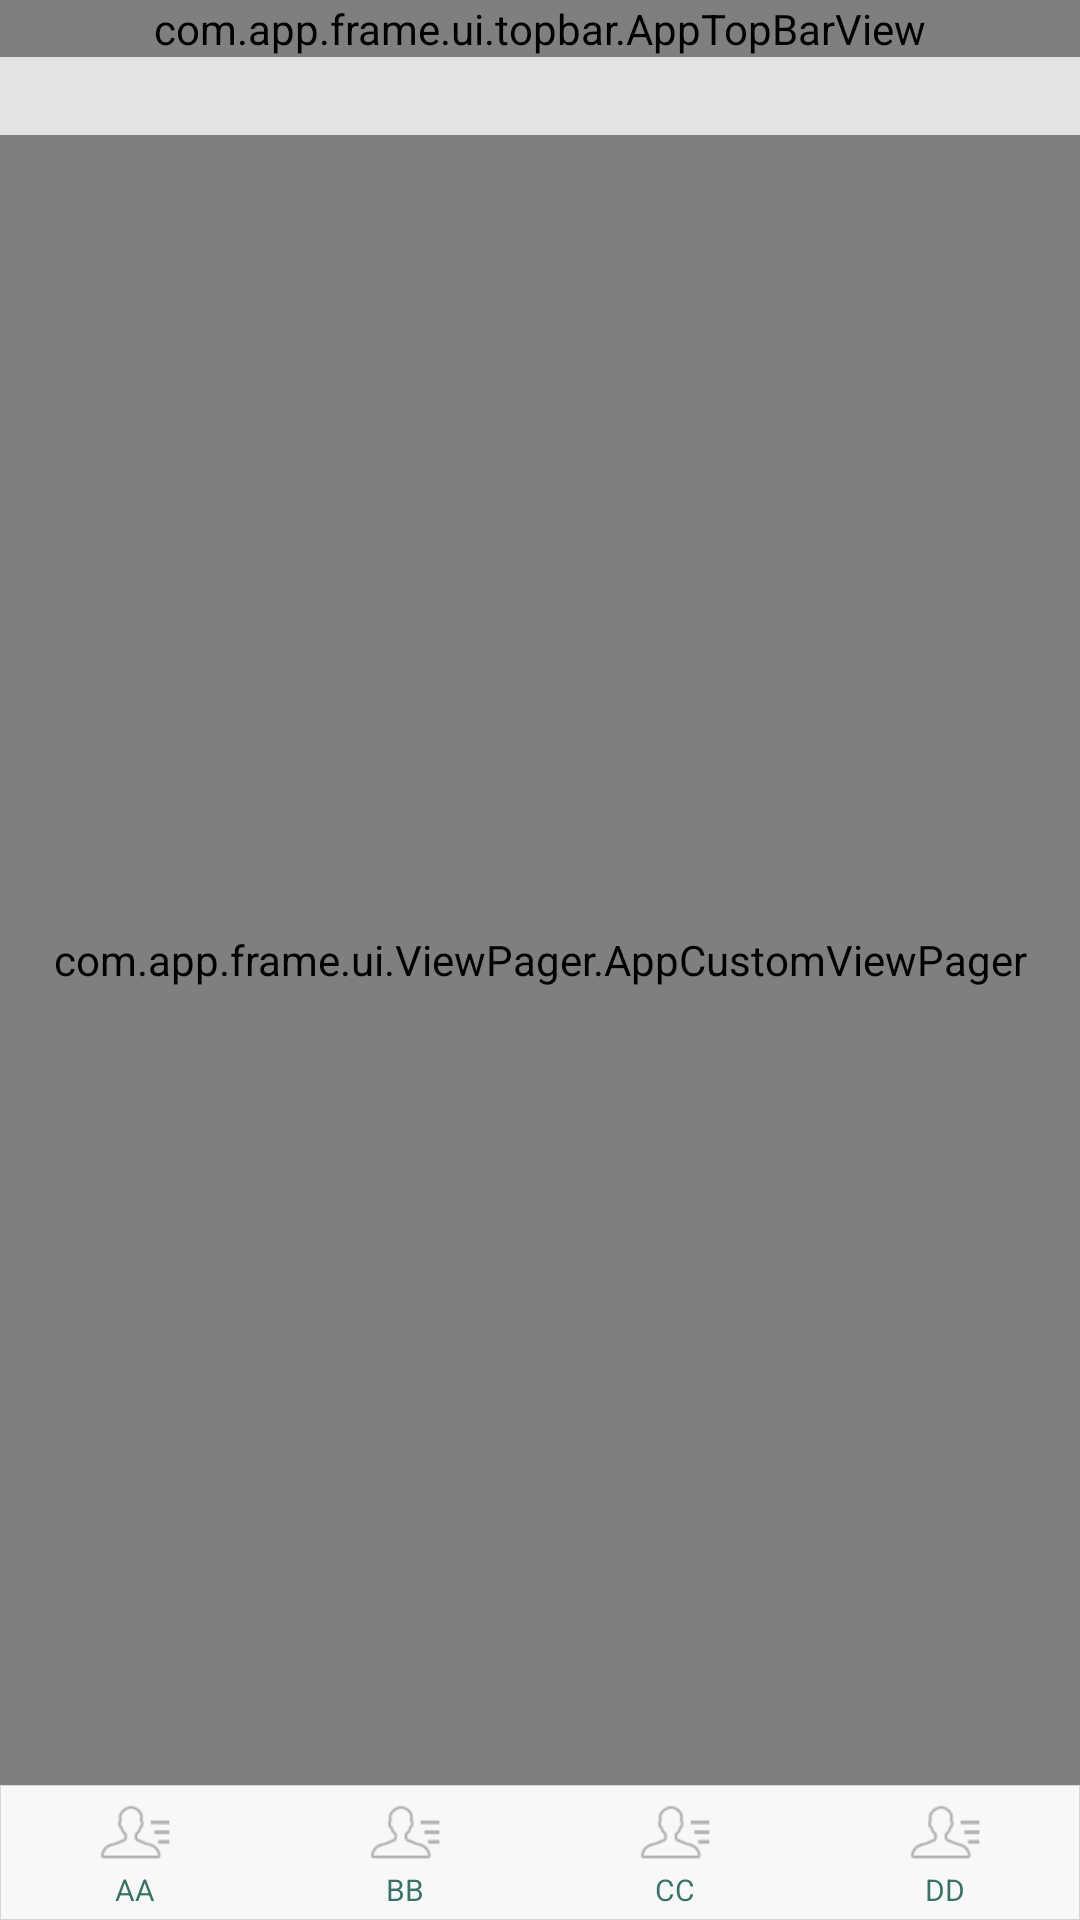

Point at icon controls on the screen. Image size 1080px×1920px, points as (x=x, y=y).
contact: (x=135, y=1832), (x=405, y=1832), (x=675, y=1832), (x=945, y=1832)
